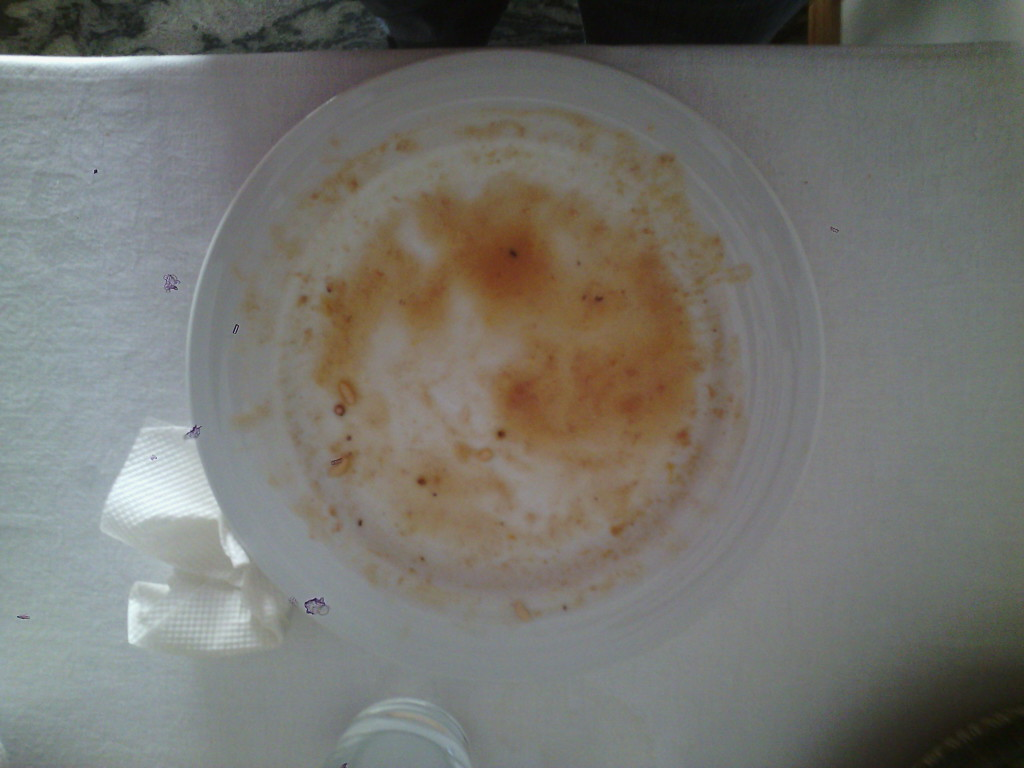0-20: (188, 49, 824, 685)
